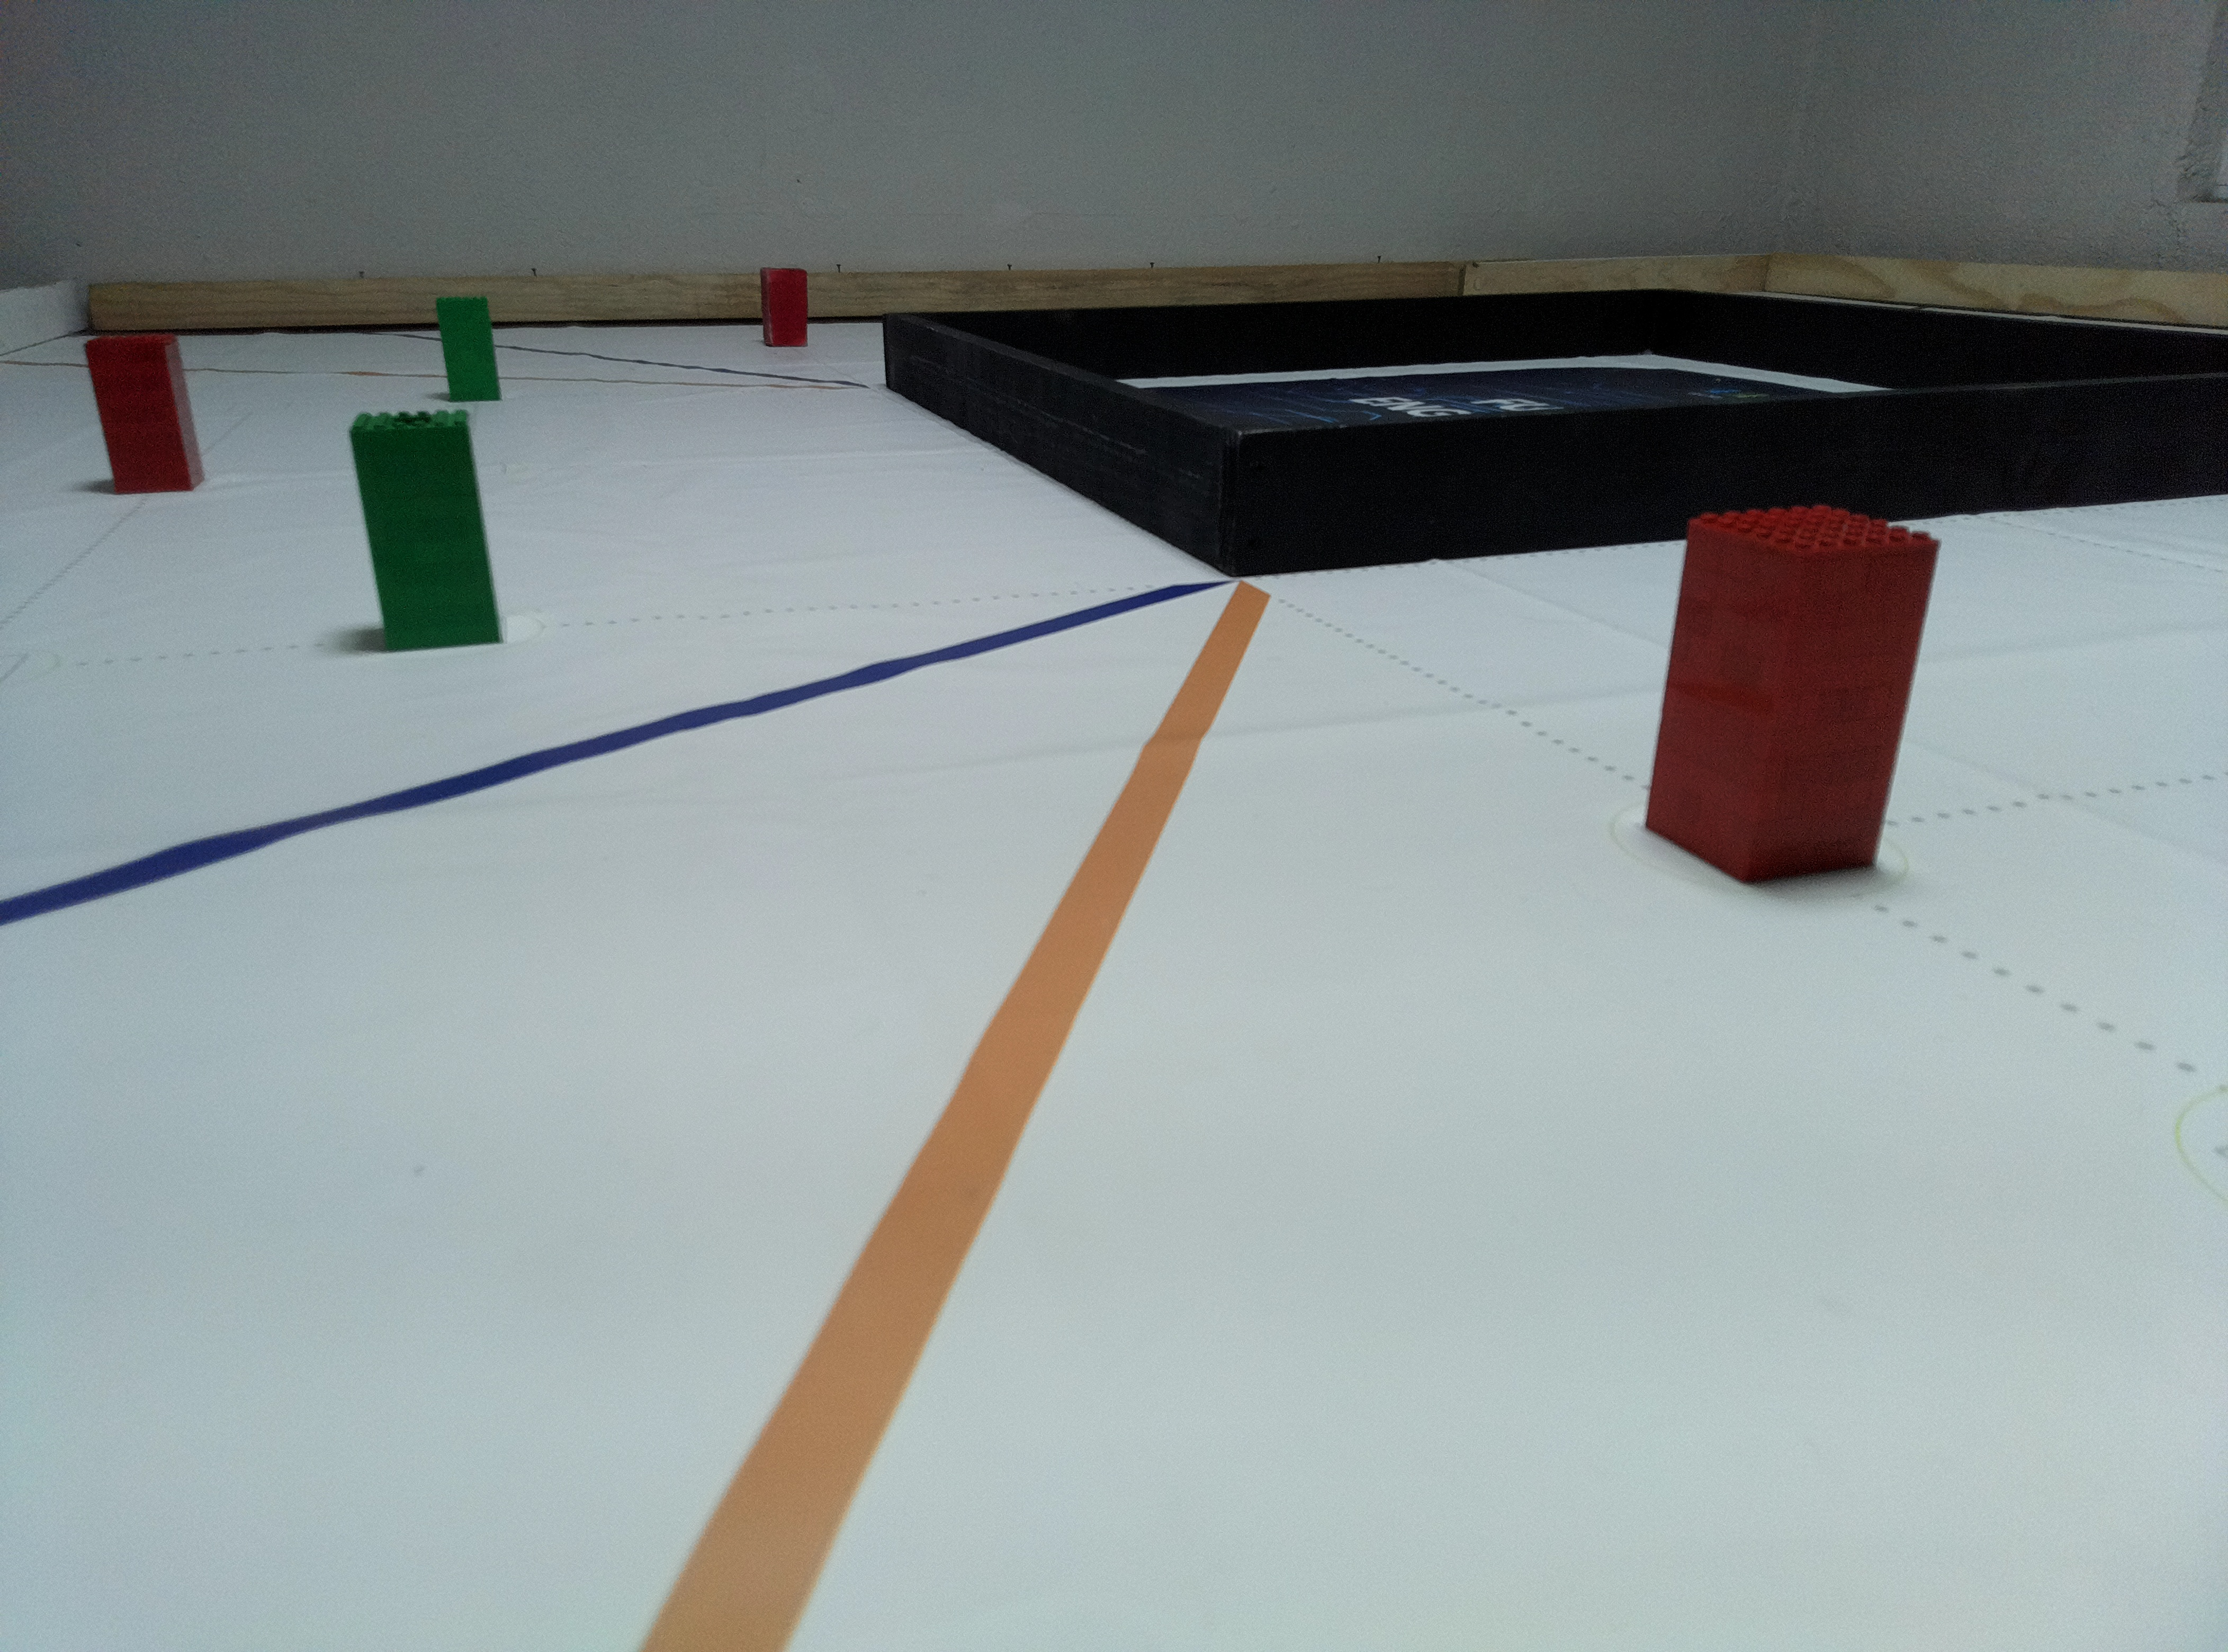greenbox: (347, 411, 507, 652), (436, 297, 503, 404)
redbox: (1643, 500, 1942, 888), (78, 335, 206, 495), (760, 265, 809, 347)
